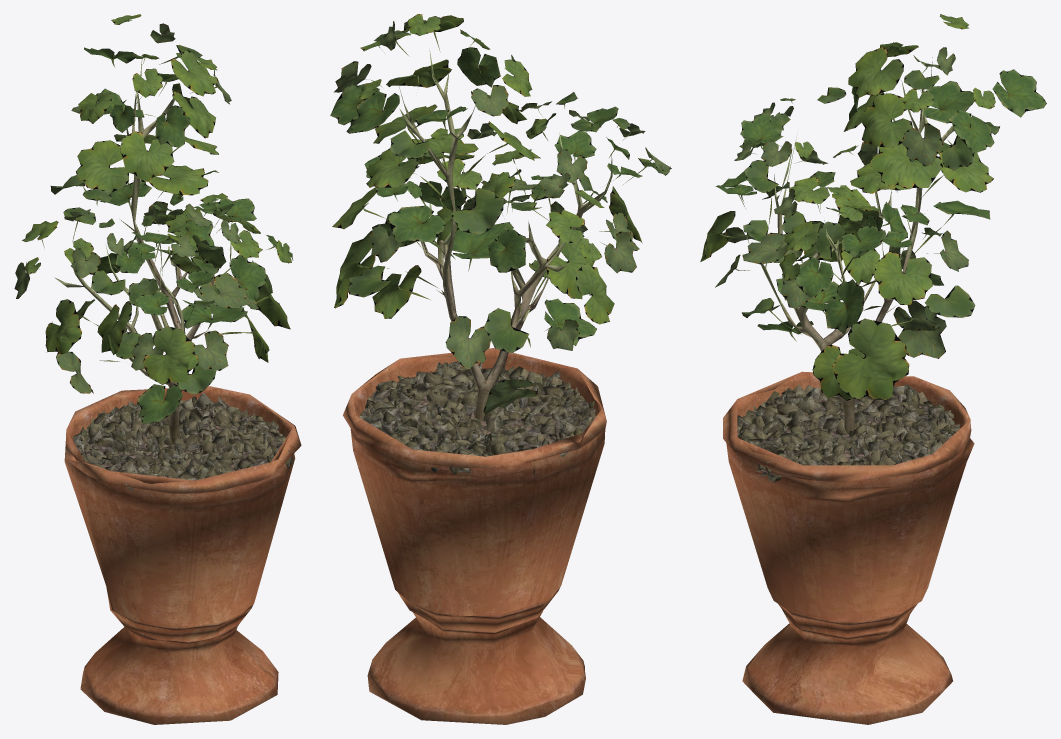
The model's file is plant_tree.glb.
3 views of the same model, side by side, from view 1: azimuth 30°, elevation 25°; view 2: azimuth 150°, elevation 25°; view 3: azimuth 270°, elevation 25° (orthographic). The views are drawn at different scales.
Visible parts, largest first — view 1: potted_plant_01_pot, potted_plant_01_leaves, potted_plant_01_pebbles, potted_plant_01_stem; view 2: potted_plant_01_pot, potted_plant_01_leaves, potted_plant_01_pebbles, potted_plant_01_stem; view 3: potted_plant_01_pot, potted_plant_01_leaves, potted_plant_01_pebbles, potted_plant_01_stem.
Part boxes in pixels (bbox=[...]): potted_plant_01_pot: bbox=[64, 386, 301, 724]; potted_plant_01_leaves: bbox=[14, 14, 293, 423]; potted_plant_01_pebbles: bbox=[73, 392, 293, 496]; potted_plant_01_stem: bbox=[54, 57, 239, 444]; potted_plant_01_pot: bbox=[343, 348, 606, 724]; potted_plant_01_leaves: bbox=[330, 14, 671, 414]; potted_plant_01_pebbles: bbox=[359, 361, 595, 476]; potted_plant_01_stem: bbox=[399, 48, 612, 420]; potted_plant_01_pot: bbox=[723, 371, 974, 724]; potted_plant_01_leaves: bbox=[700, 14, 1046, 400]; potted_plant_01_pebbles: bbox=[737, 384, 966, 482]; potted_plant_01_stem: bbox=[760, 57, 966, 434].
Bounding box in the file's own units: 0.5866 × 1.33 × 0.6336.
Materials: 2 (2 with a texture image).
